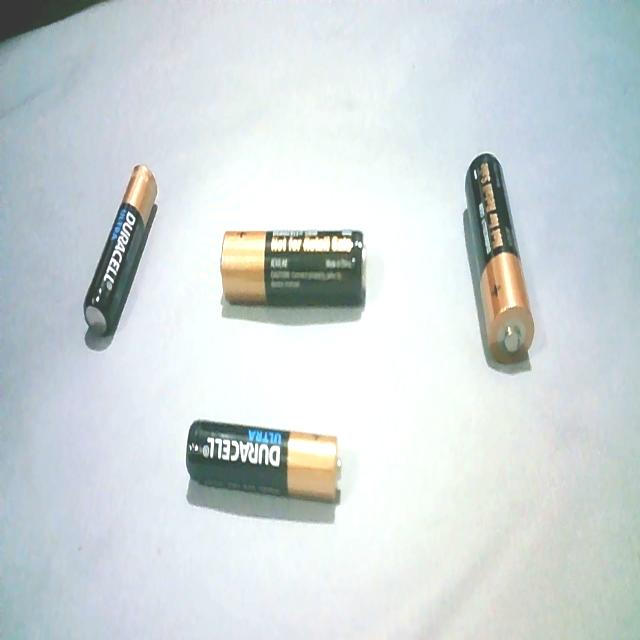AA: (460, 148, 538, 374), (216, 215, 372, 318)
AAA: (182, 410, 346, 510), (80, 153, 160, 343)
